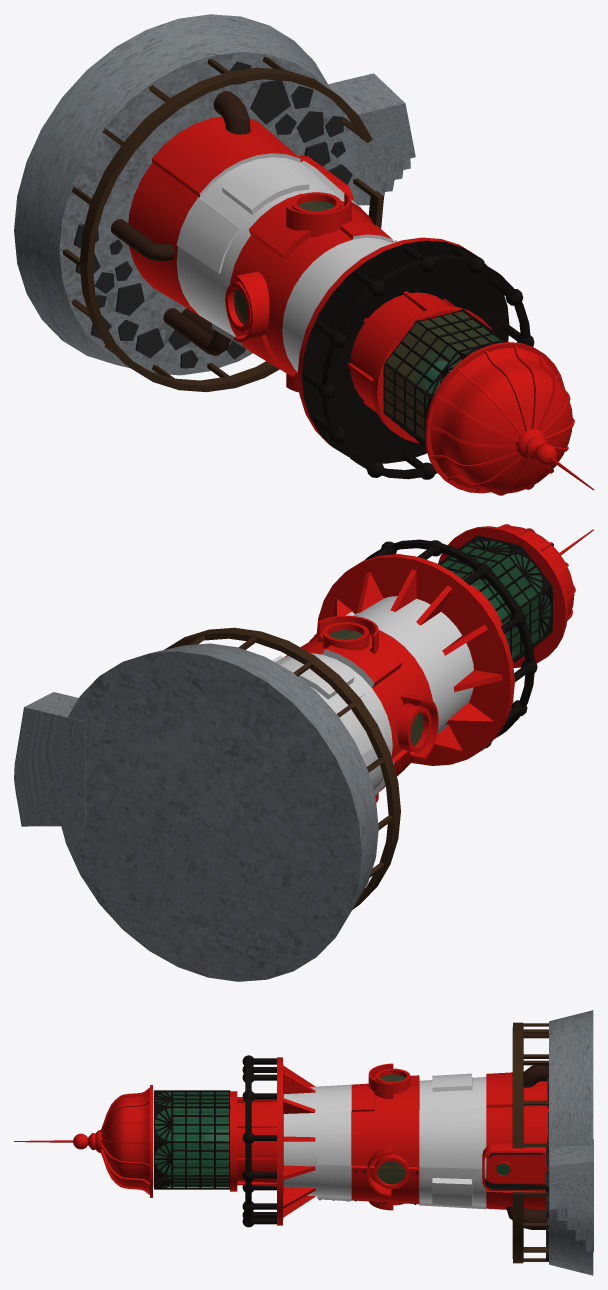
Rendered from LightHouse.obj.
3 views of the same model, one above another, from view 1: azimuth 30°, elevation 25°; view 2: azimuth 150°, elevation 25°; view 3: azimuth 270°, elevation 25° (orthographic). The views are drawn at different scales.
Parts seen in each view (by area): view 1: lv3; view 2: lv3; view 3: lv3.
Boxes of the visible parts, <box> form: lv3: <box>14,14,593,495</box>; lv3: <box>14,524,593,981</box>; lv3: <box>14,1010,593,1275</box>.
Bounding box in the file's own units: 3.98 × 3.52 × 7.69.
10 materials, 1 textured.
